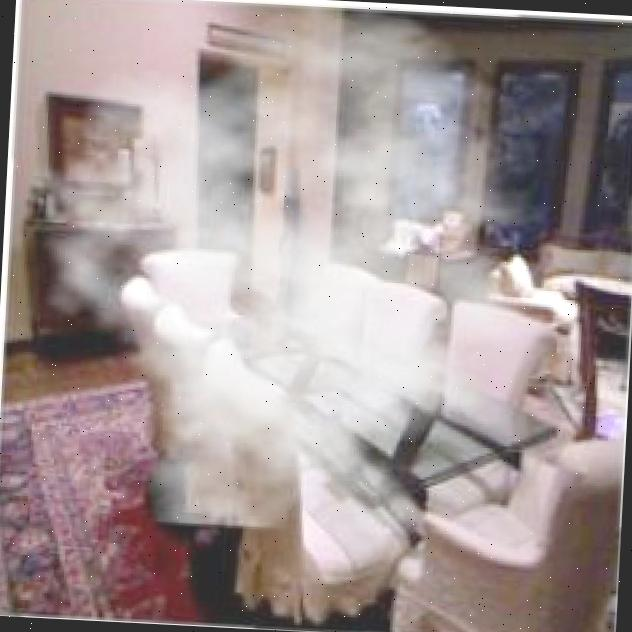smoke: (9, 0, 602, 543)
